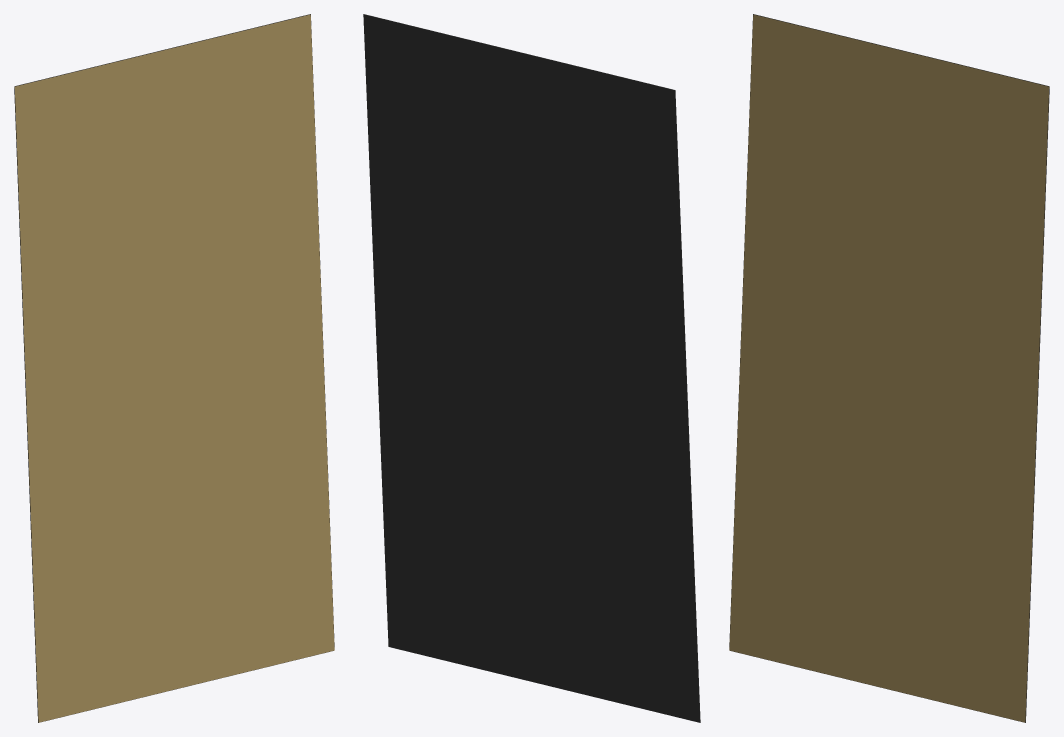
3 renders of one model, left to right at view 1: azimuth 30°, elevation 25°; view 2: azimuth 150°, elevation 25°; view 3: azimuth 330°, elevation 25°, orthographic. The views are drawn at different scales.
Visible parts, largest first — view 1: xc_mirror, acrylic-mirror; view 2: acrylic-mirror; view 3: xc_mirror, acrylic-mirror.
Part boxes in pixels (box(x1,y1,x2,y2)): xc_mirror: box(14, 14, 334, 722); acrylic-mirror: box(14, 14, 334, 722); acrylic-mirror: box(363, 14, 700, 722); xc_mirror: box(729, 14, 1049, 722); acrylic-mirror: box(729, 14, 1049, 722).
Bounding box in the file's own units: 1.22 × 2.43 × 0.1725.
